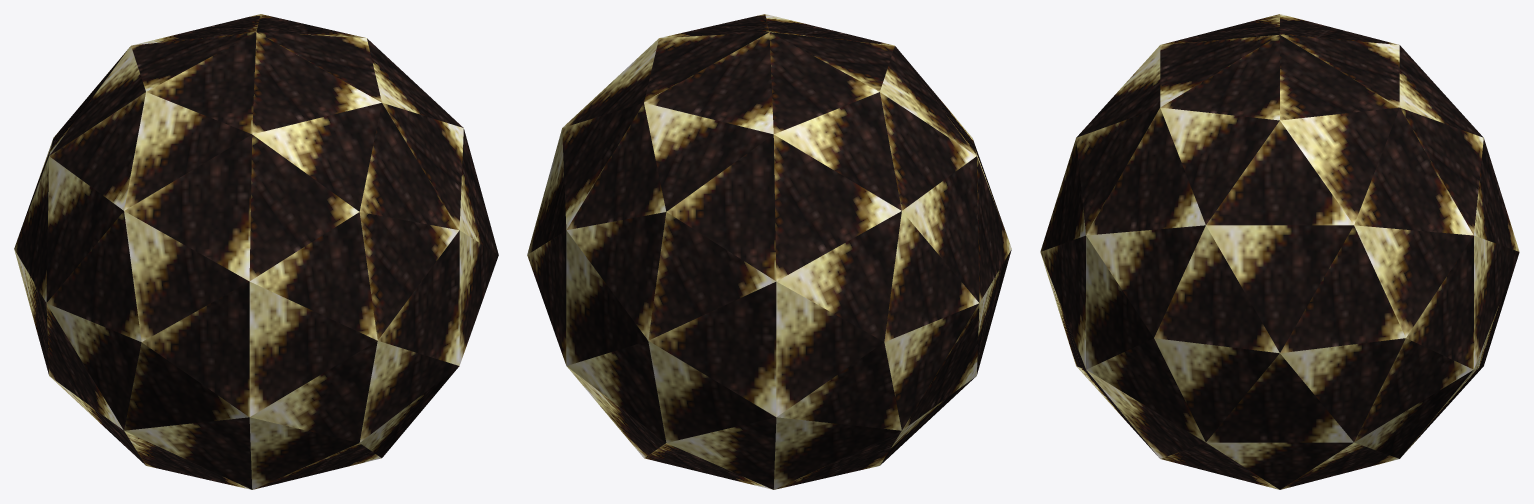
File: Mobile Satalite.fbx
The picture shows the model from 3 angles, left to right: view 1: azimuth 30°, elevation 25°; view 2: azimuth 150°, elevation 25°; view 3: azimuth 270°, elevation 25°; orthographic projection.
Parts seen in each view (by area): view 1: cloaking field, cloaking field_selection; view 2: cloaking field, cloaking field_selection; view 3: cloaking field, cloaking field_selection.
Boxes of the visible parts, box(x1,y1,x2,y2) form: cloaking field: box(14, 14, 498, 489); cloaking field_selection: box(146, 32, 256, 133); cloaking field: box(527, 14, 1011, 489); cloaking field_selection: box(770, 32, 894, 91); cloaking field: box(1040, 14, 1519, 489); cloaking field_selection: box(1161, 14, 1279, 44).
Size of what is drawn, in the model's own units: 12000 by 12000 by 12000.
8 materials, 8 textured.
